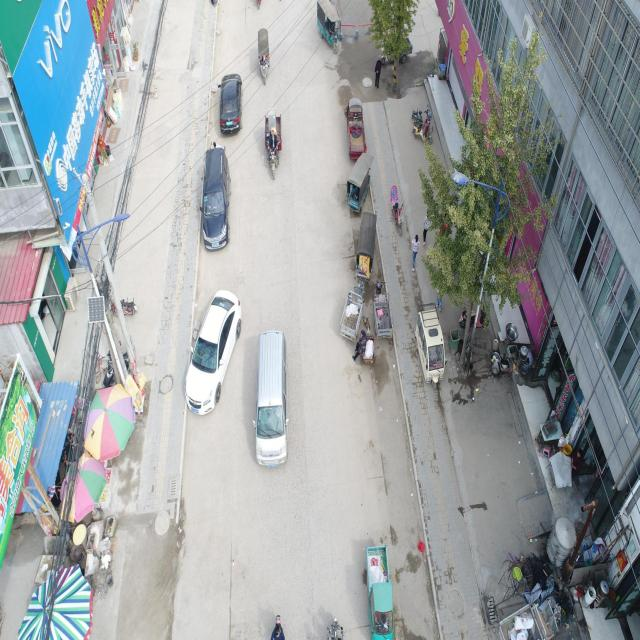bike: (266, 144, 279, 180)
car: (184, 289, 242, 416), (252, 330, 289, 467), (200, 141, 231, 251), (217, 73, 242, 134)
person: (352, 329, 366, 361), (270, 614, 285, 640), (411, 234, 420, 272), (374, 56, 382, 88), (423, 212, 430, 245)
tree: (417, 26, 565, 369), (367, 0, 419, 97)
